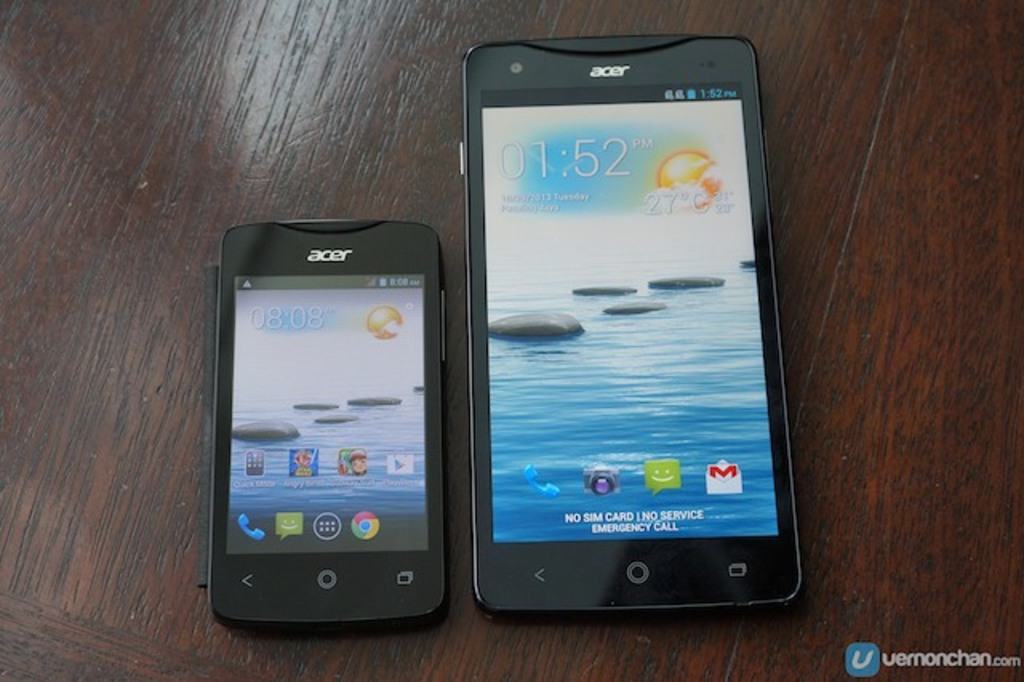mobile phone: (457, 32, 806, 617), (459, 32, 804, 621), (204, 217, 451, 638)
